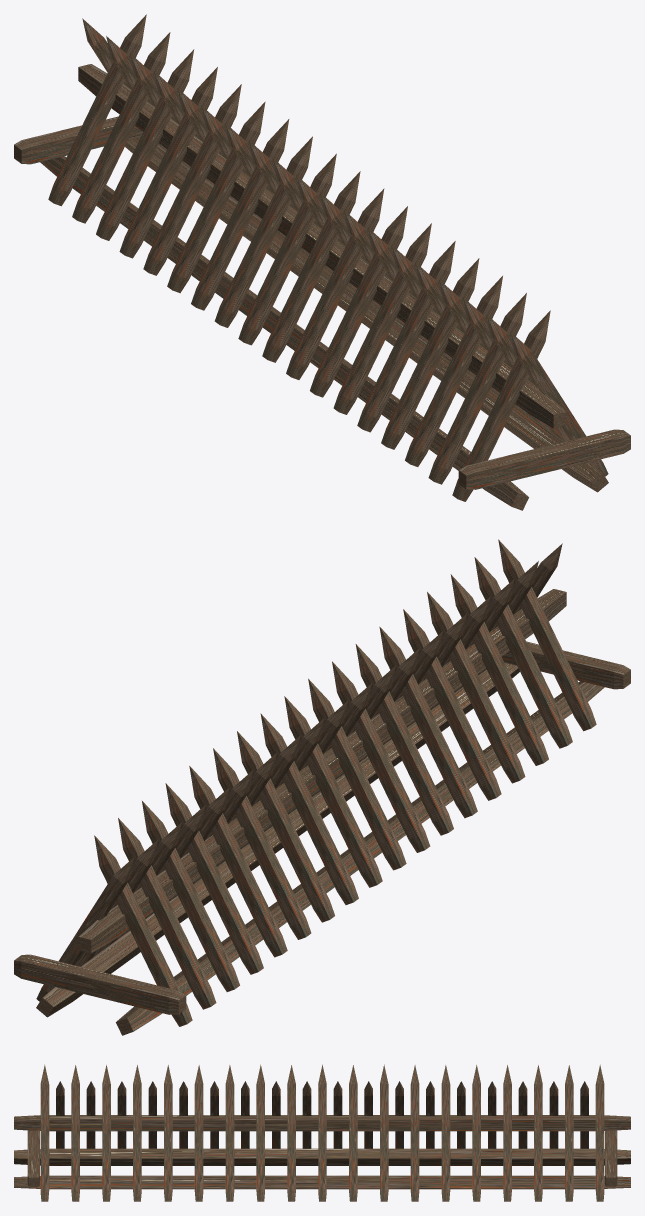
File: barrier_long_2.fbx
The picture shows the model from 3 angles, top to bottom: view 1: azimuth 30°, elevation 25°; view 2: azimuth 150°, elevation 25°; view 3: azimuth 270°, elevation 25°; orthographic projection. The views are drawn at different scales.
Parts seen in each view (by area): view 1: Cube.005; view 2: Cube.005; view 3: Cube.005.
Boxes of the visible parts, x1,y1,x2,y2 form: Cube.005: (14, 14, 630, 510); Cube.005: (14, 539, 630, 1035); Cube.005: (14, 1064, 630, 1201).
Size of the model in its own units: 200 by 196 by 1000.
